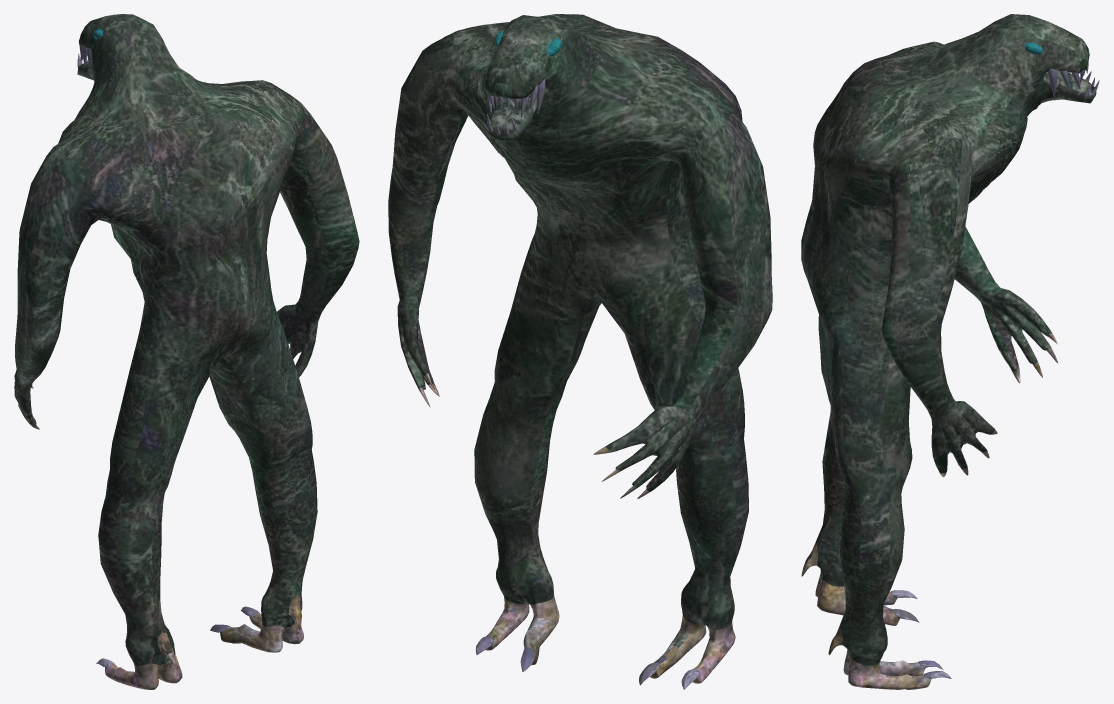
File: Aranar.0019.obj
3 renders of one model, left to right at view 1: azimuth 30°, elevation 25°; view 2: azimuth 150°, elevation 25°; view 3: azimuth 270°, elevation 25°, orthographic. The views are drawn at different scales.
Parts seen in each view (by area): view 1: polySurface28; view 2: polySurface28; view 3: polySurface28.
Boxes of the visible parts, x1,y1,x2,y2 form: polySurface28: [14, 14, 359, 689]; polySurface28: [388, 14, 772, 689]; polySurface28: [801, 14, 1099, 689].
Size of the model in its own units: 1.29 by 2.3 by 0.9895.
4 materials, 4 textured.
